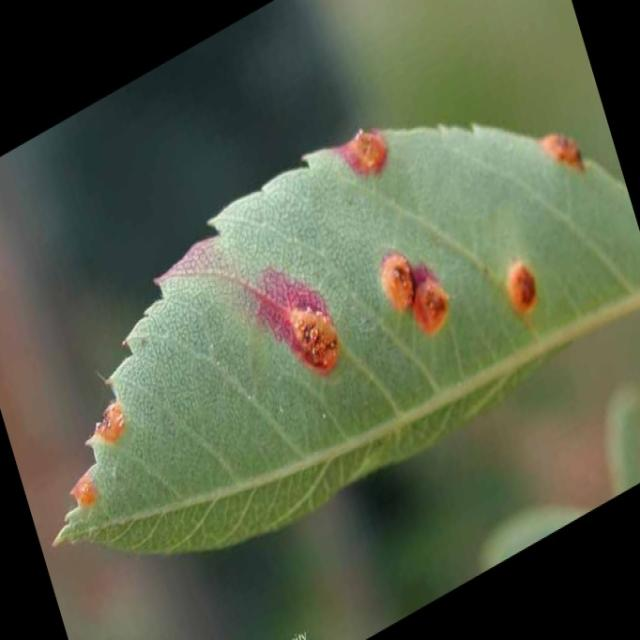Gymnosporangium_Rusts: (51, 118, 637, 556)
